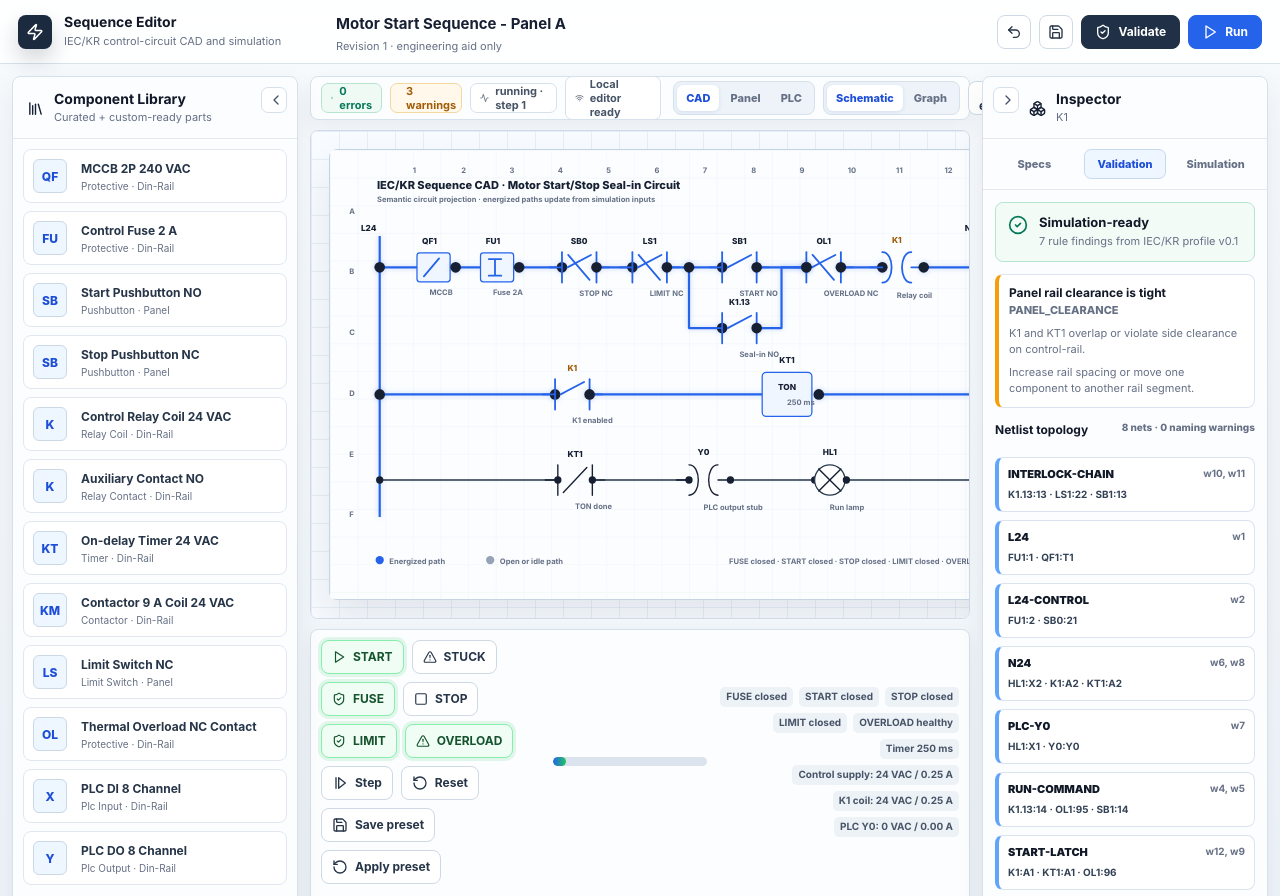
Scenario: Sequence Editor app › lets the operator open LS1 and trips the sealed sequence
Click the button "Reset" at (440, 783), box [401, 766, 479, 800]
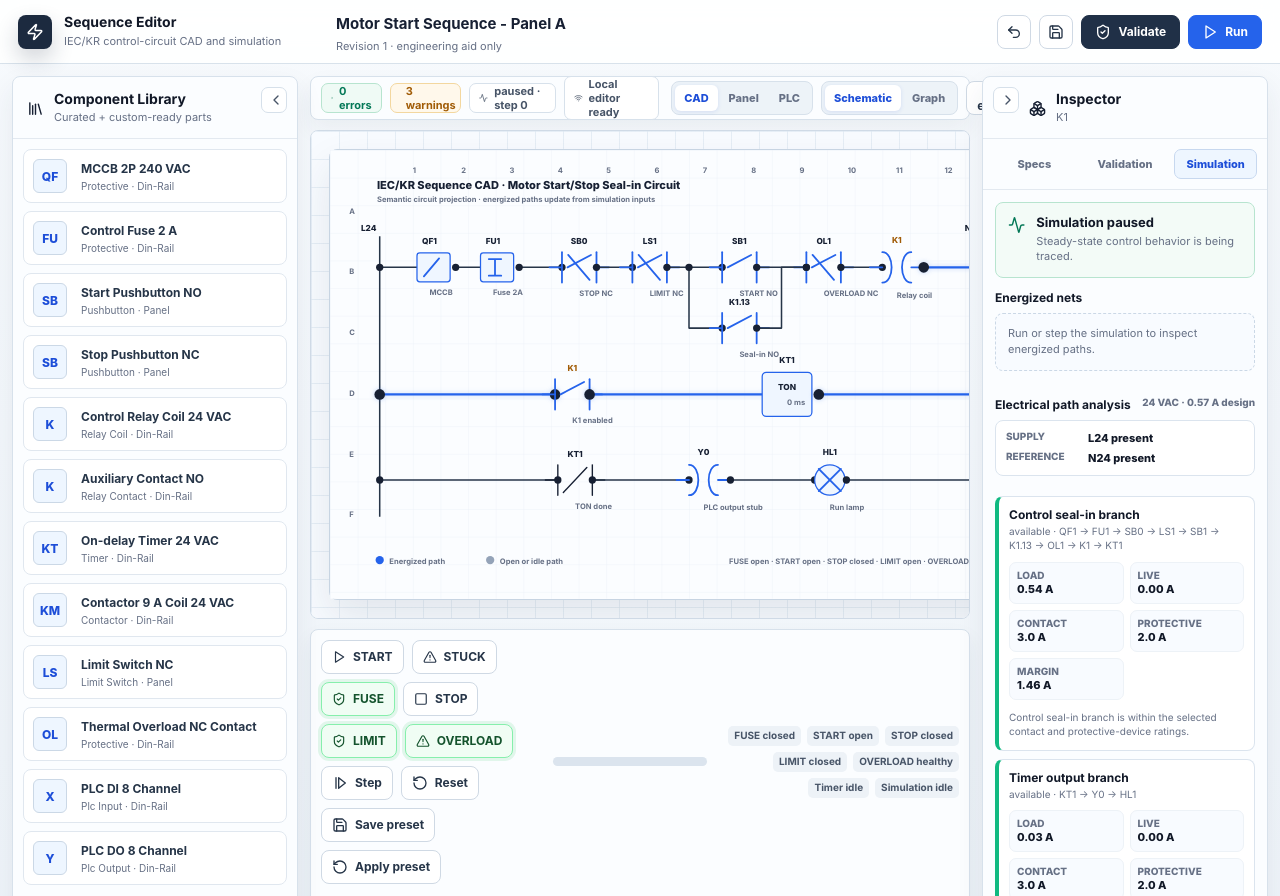
Click the button "START" at (362, 657), box [321, 640, 404, 674]
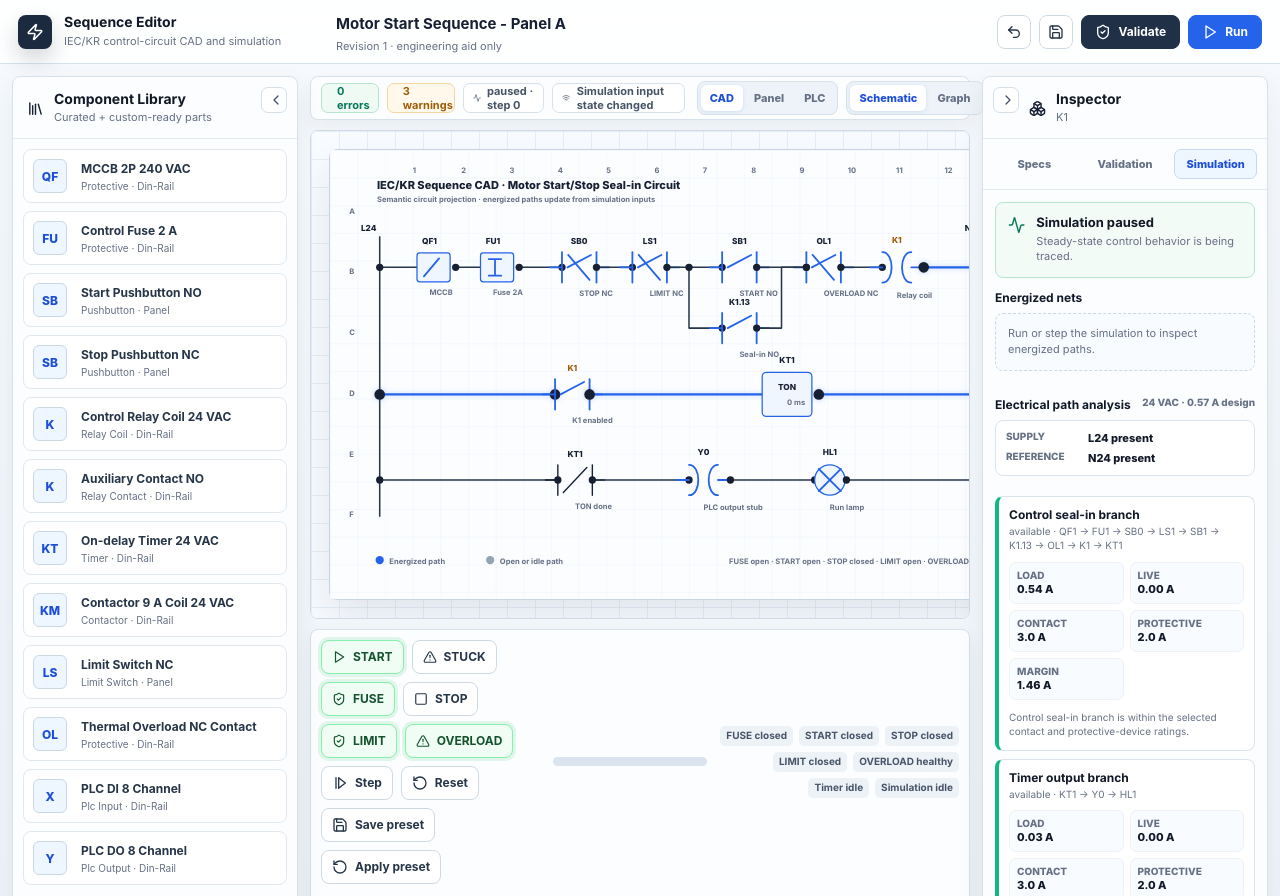
Click the button "Step" at (357, 783), box [321, 766, 393, 800]
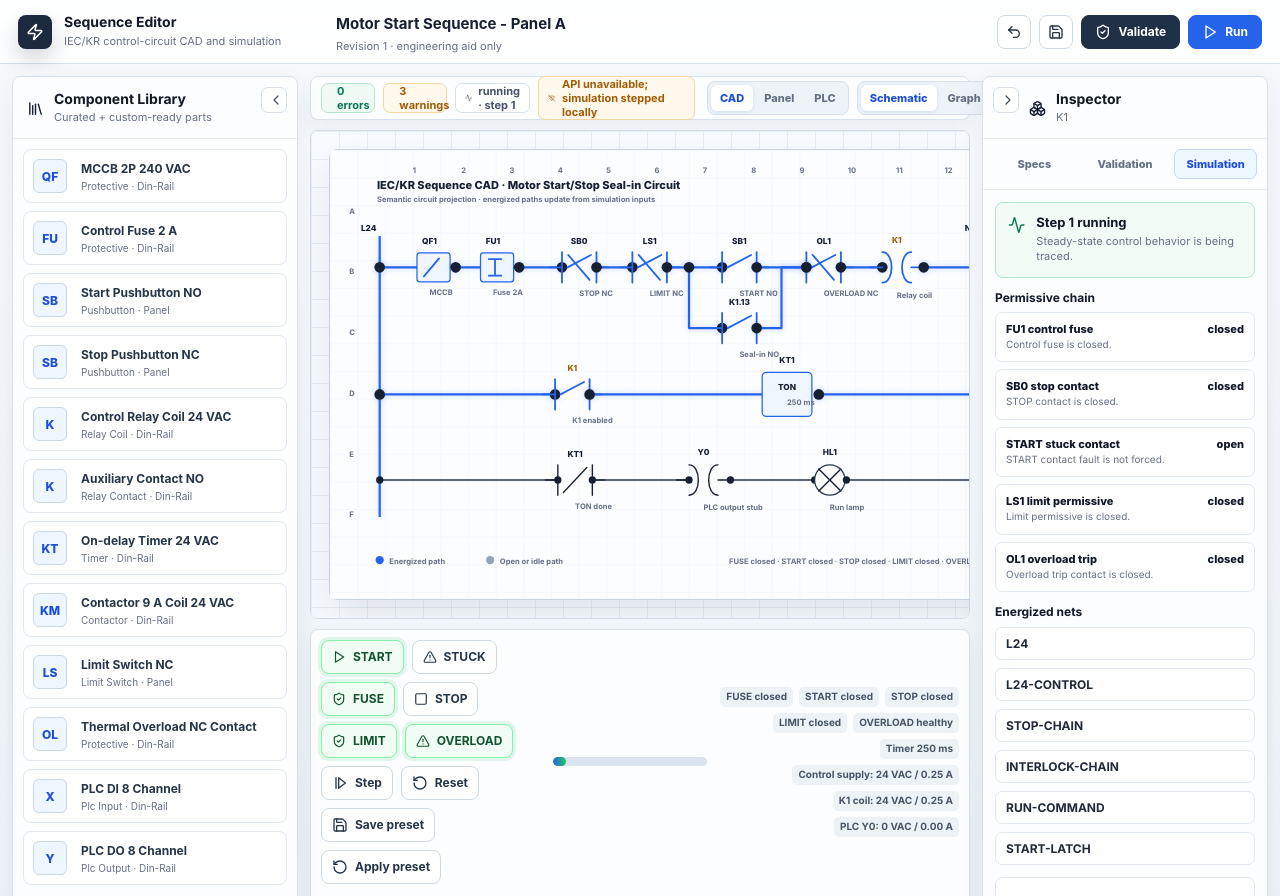
Expected: the text "LIMIT closed" is shown, [773, 713, 847, 733]
Expected: the text "Step 1 running" is shown, [1036, 215, 1127, 231]
Expected: the text "K1 coil: 24 VAC / 0.25 A" is shown, [833, 791, 959, 811]
Click the button "LIMIT" at (359, 741), box [321, 724, 397, 758]
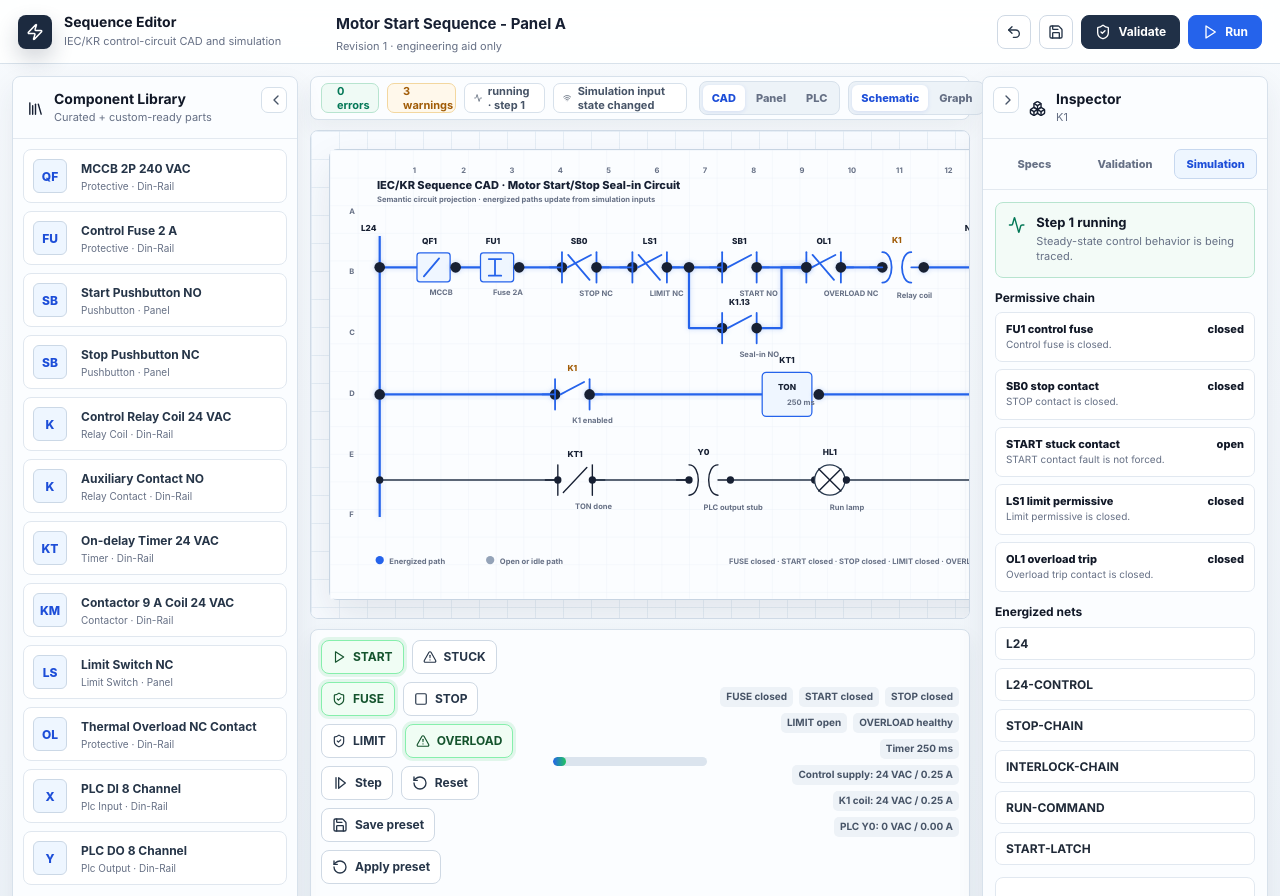
Click the button "Step" at (357, 783), box [321, 766, 393, 800]
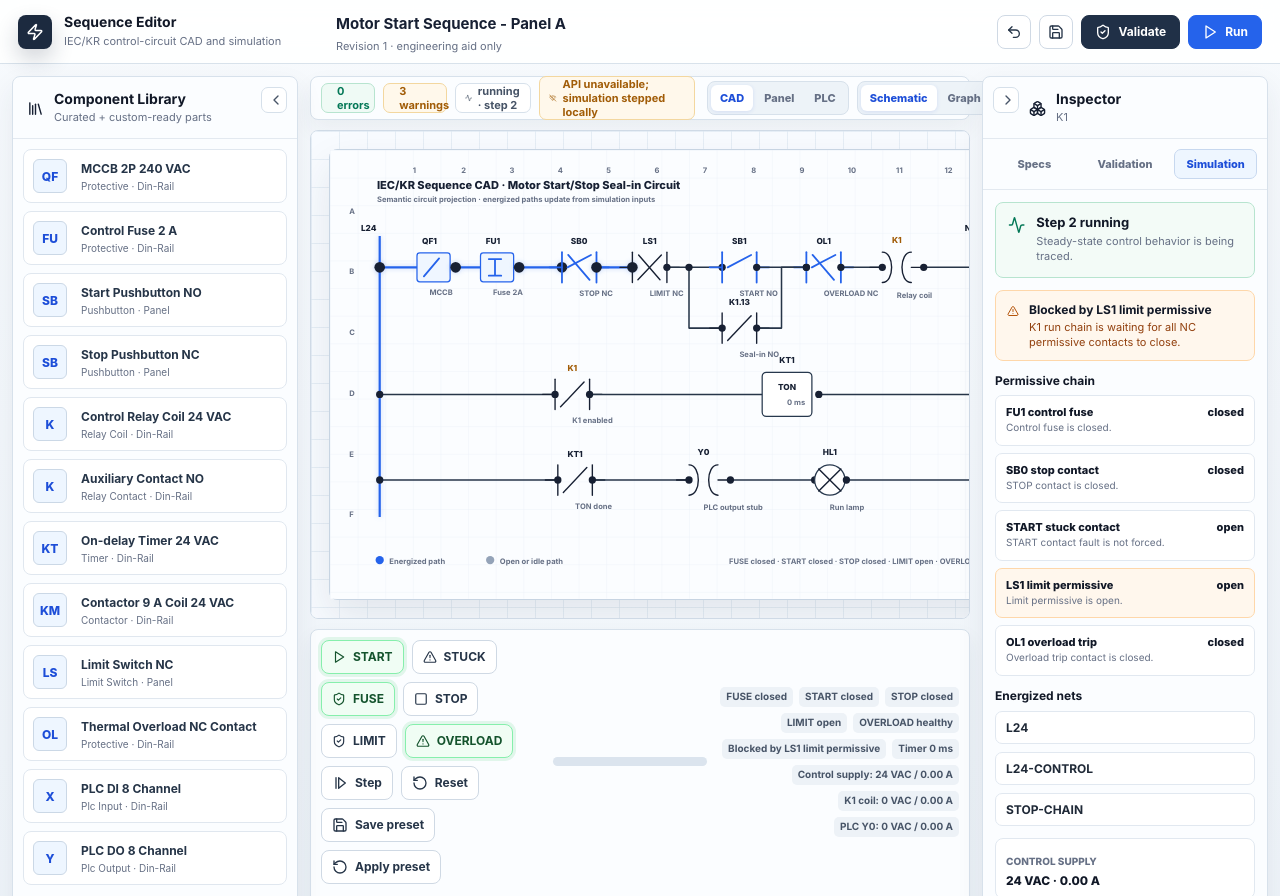
Expected: the text "LIMIT open" is shown, [781, 713, 847, 733]
Expected: the text "Step 2 running" is shown, [1036, 215, 1129, 231]
Expected: the text "K1 coil: 0 VAC / 0.00 A" is shown, [838, 791, 959, 811]
